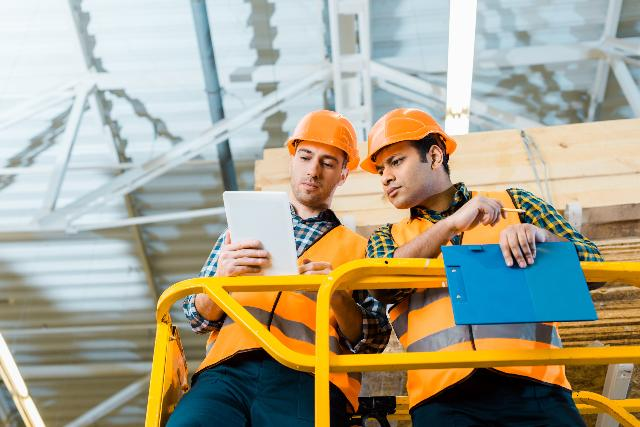helmet: (362, 108, 453, 163), (285, 111, 357, 170)
vest: (398, 219, 560, 385), (218, 231, 364, 366)
